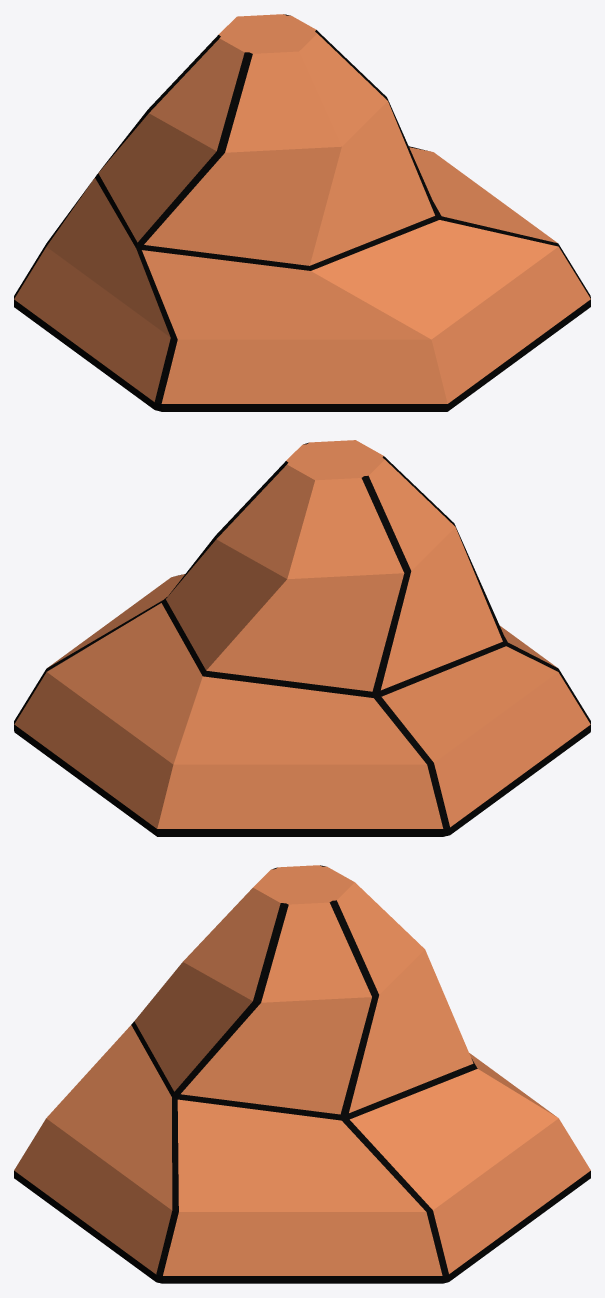
The model's file is PaperRock01 1.fbx.
3 renders of one model, top to bottom at view 1: azimuth 30°, elevation 25°; view 2: azimuth 150°, elevation 25°; view 3: azimuth 270°, elevation 25°, orthographic.
Parts seen in each view (by area): view 1: Circle.020; view 2: Circle.020; view 3: Circle.020.
Part boxes in pixels (x1,y1,x2,y2): Circle.020: (14,14,590,411); Circle.020: (14,440,590,836); Circle.020: (14,865,590,1283).
Bounding box in the file's own units: 1066 × 652 × 1231.
